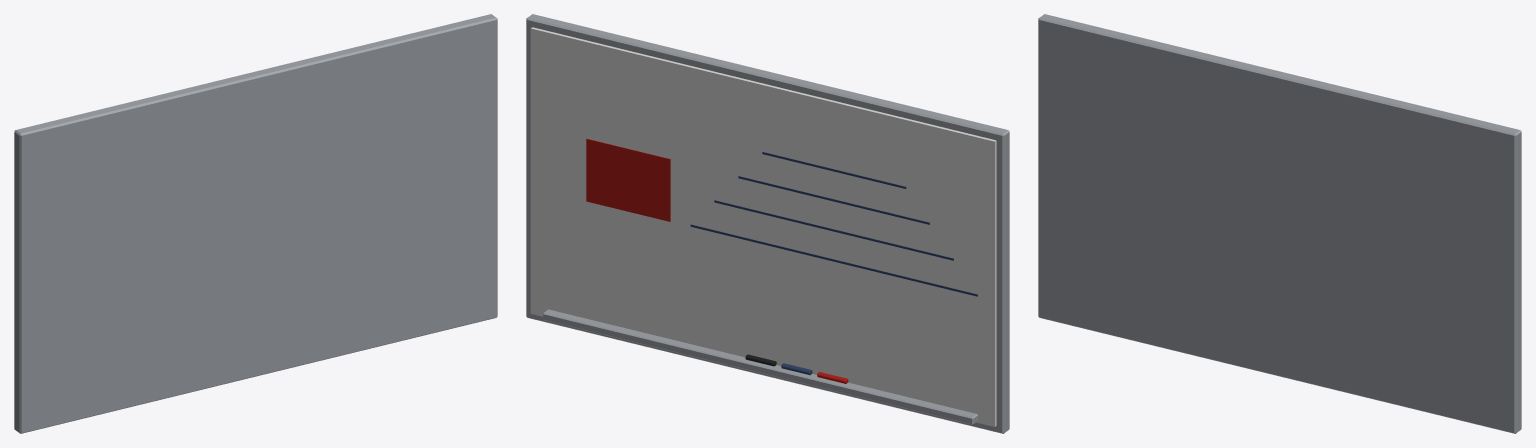
Rendered from whiteboard.glb.
The picture shows the model from 3 angles, left to right: view 1: azimuth 30°, elevation 25°; view 2: azimuth 150°, elevation 25°; view 3: azimuth 330°, elevation 25°; orthographic projection.
Visible parts, largest first — view 1: whiteboard; view 2: whiteboard; view 3: whiteboard.
Boxes of the visible parts, x1,y1,x2,y2 form: whiteboard: (14, 14, 497, 433); whiteboard: (526, 14, 1009, 433); whiteboard: (1038, 14, 1521, 433).
Bounding box in the file's own units: 2 × 1.2 × 0.1.
